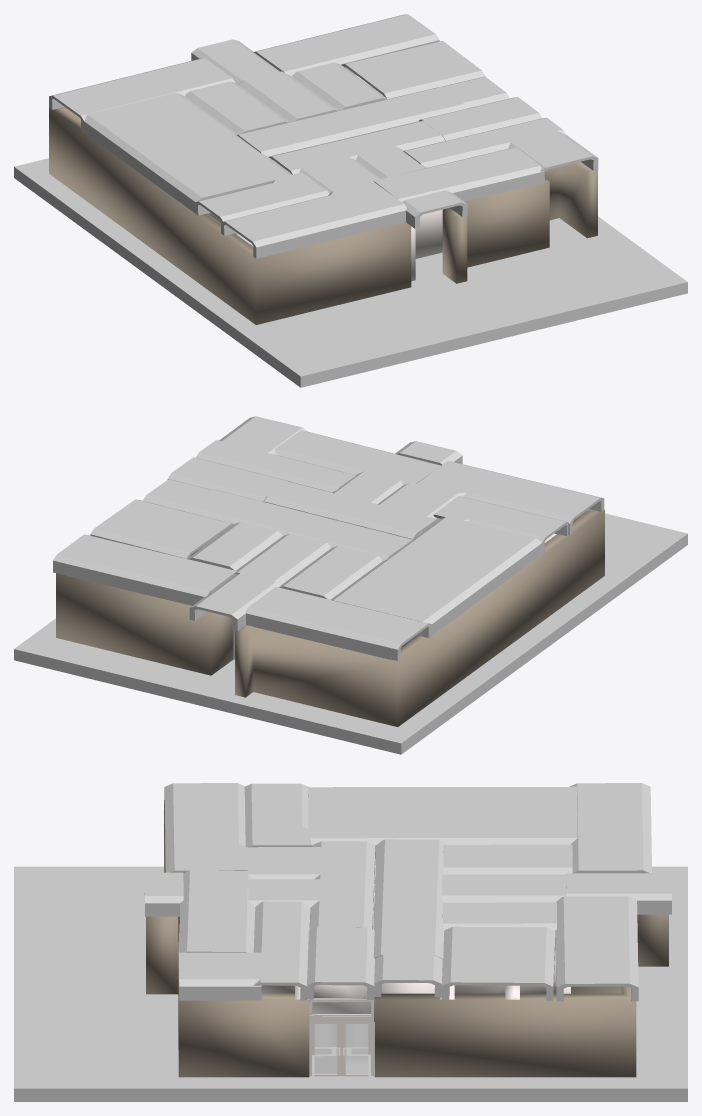
File: labN1.glb
The picture shows the model from 3 angles, top to bottom: view 1: azimuth 30°, elevation 25°; view 2: azimuth 150°, elevation 25°; view 3: azimuth 270°, elevation 25°; orthographic projection. The views are drawn at different scales.
Visible parts, largest first — view 1: Cubo.009, Curve.001, Curve.002, Curve.003; view 2: Cubo.009, Curve.002, Curve.001; view 3: Cubo.009, Curve.001, Curve.002, Plane.022_Plane.001, Curve.003.
Boxes of the visible parts, x1,y1,x2,y2 form: Cubo.009: (49, 14, 598, 258); Curve.001: (14, 158, 687, 387); Curve.002: (49, 107, 597, 324); Curve.003: (208, 75, 442, 281); Cubo.009: (53, 416, 604, 661); Curve.002: (56, 509, 604, 726); Curve.001: (14, 513, 687, 754); Cubo.009: (144, 783, 671, 1001); Curve.001: (14, 866, 687, 1101); Curve.002: (146, 800, 668, 1077); Plane.022_Plane.001: (309, 998, 373, 1076); Curve.003: (261, 859, 570, 1021).
Bounding box in the file's own units: 6.11 × 1.39 × 7.84.
